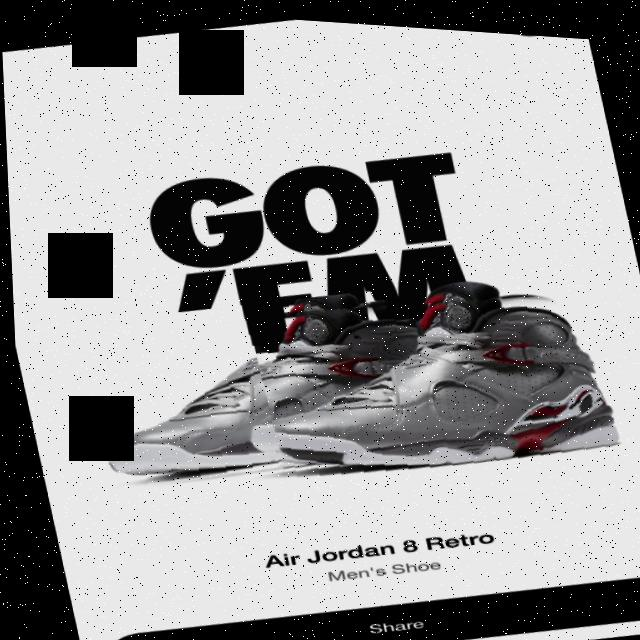shoe: (241, 243, 640, 500), (30, 266, 418, 519)
